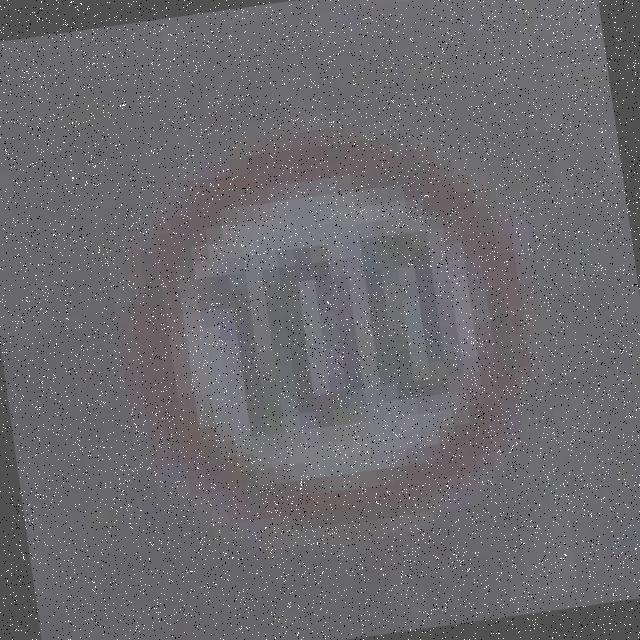Ograniczenie predkosci do 100: (110, 111, 554, 558)
